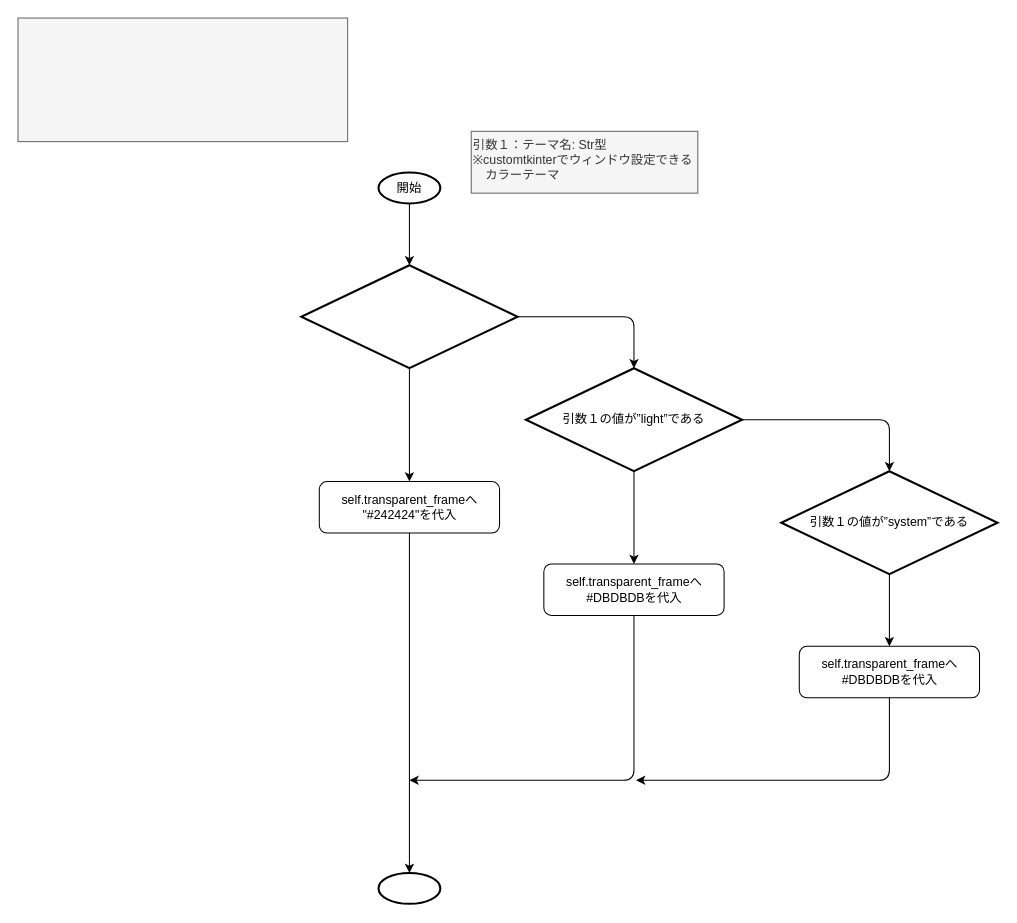
This 1017x923 diagram has some shape labels left out. The centre of each missing label's shape, as x and y in pixels:
初期化メソッド クラス：CommonStyleクラス 役割 ウィンドウの背景色テーマに合わせて、デザイン を変更する: pixel 182 79
引数１の値が”dark”である: pixel 409 316
終了: pixel 409 887
